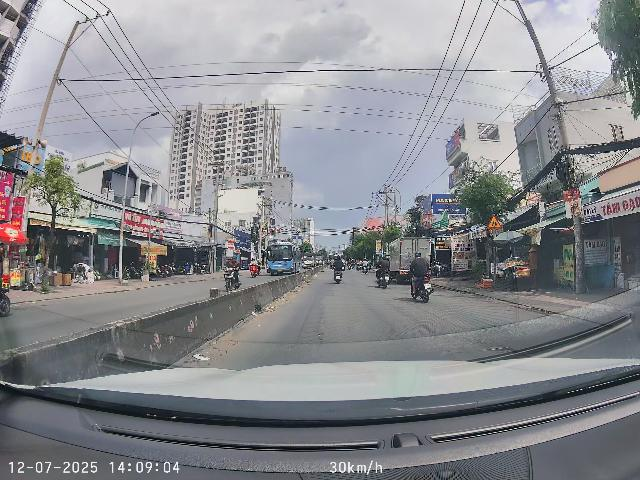225-chu-y-tre-em: (487, 214, 502, 229)
